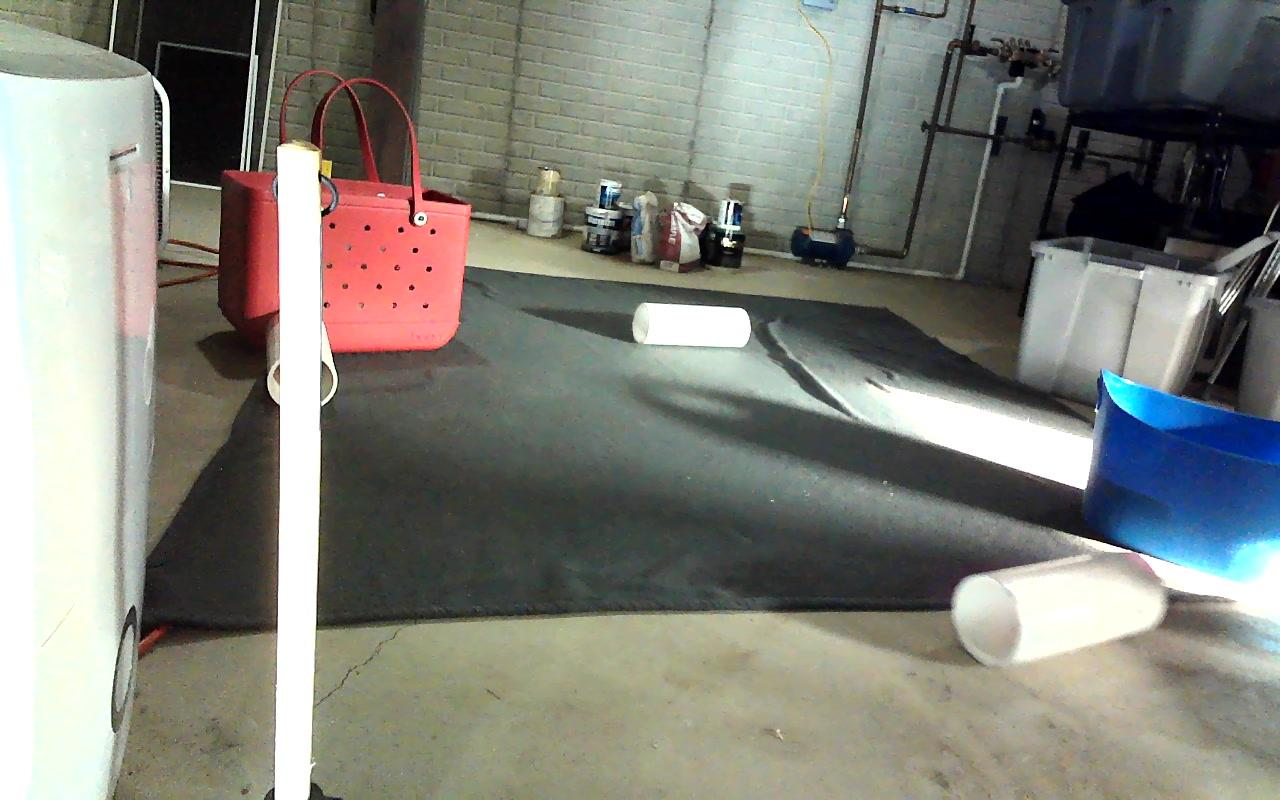coral: (953, 549, 1167, 666), (267, 314, 337, 407), (633, 304, 750, 348)
